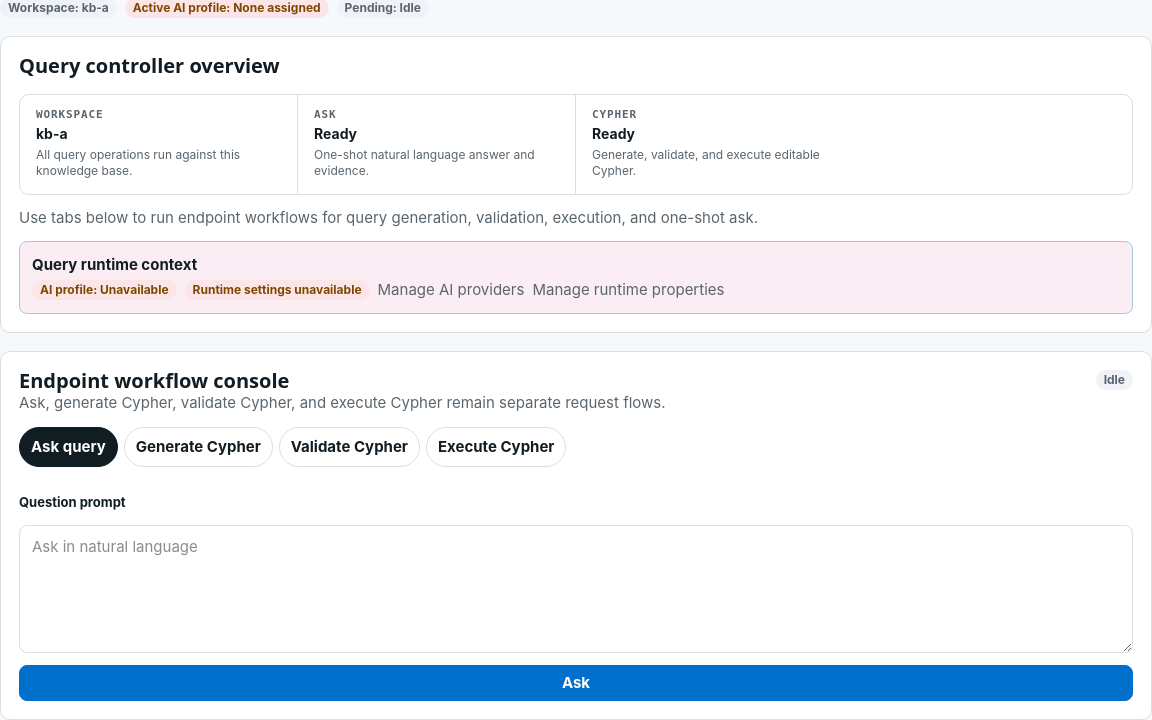
Test: queries page › shows ask error alert when ask mutation fails
The image size is (1152, 720).
(page scrolled)
Click the button "Ask" at {"x": 576, "y": 683}, box [19,665,1133,701]
(page scrolled)
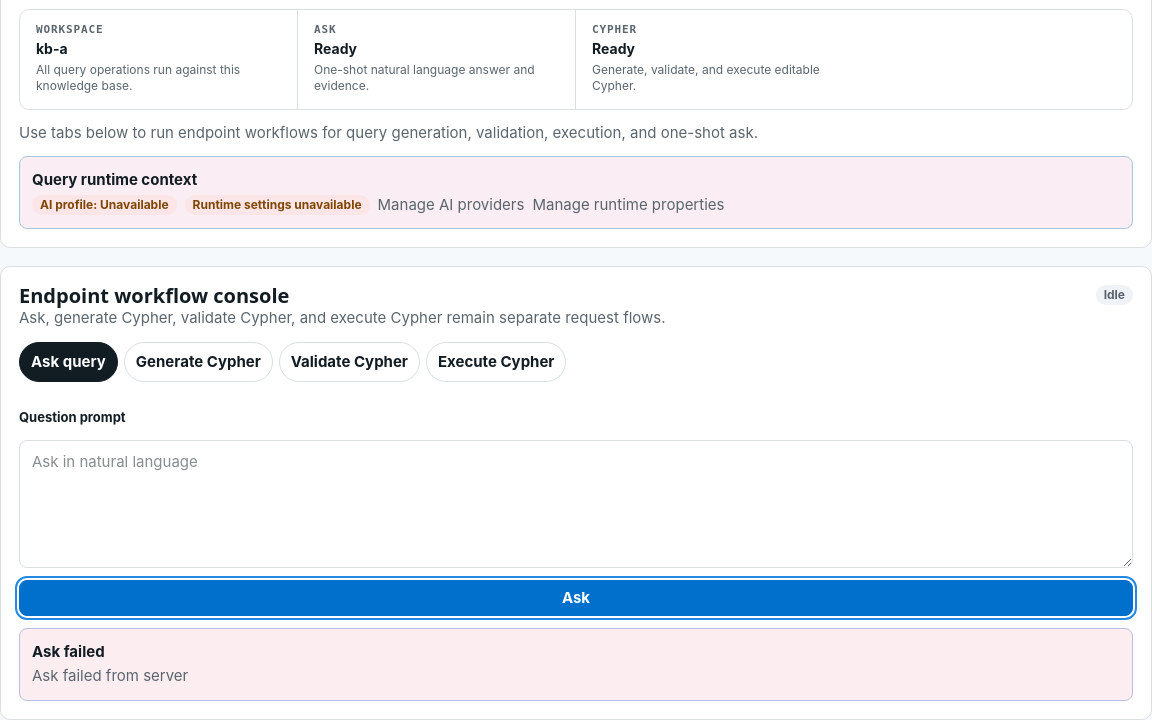
Expected: the text "Ask failed" is shown, [32,642,105,661]
Expected: the text "Ask failed from server" is shown, [32,666,188,685]
